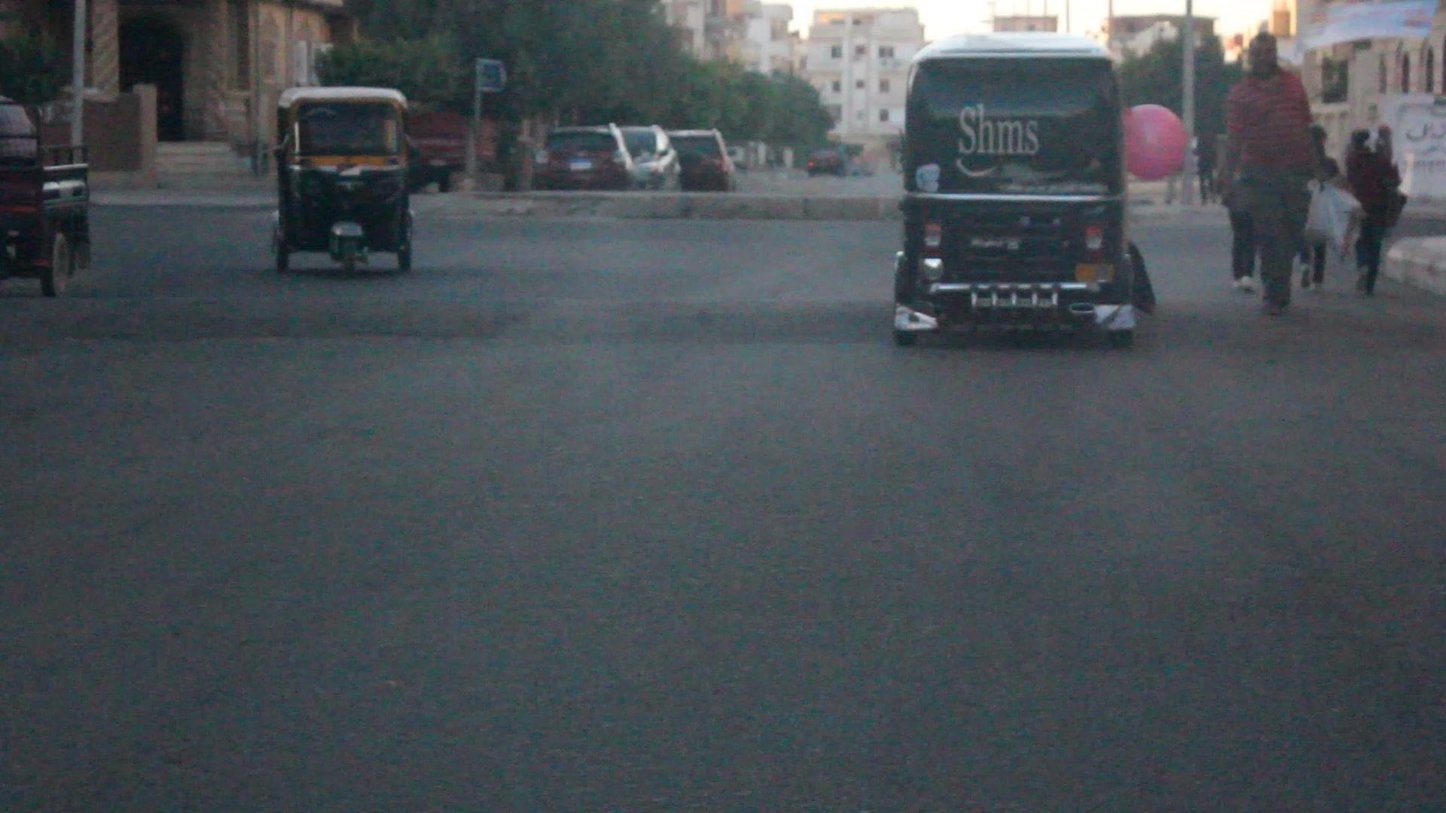Bump: (62, 265, 898, 354), (1156, 269, 1446, 343)
